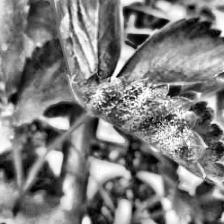Powdery Mildew Leaf: (65, 75, 224, 185)
